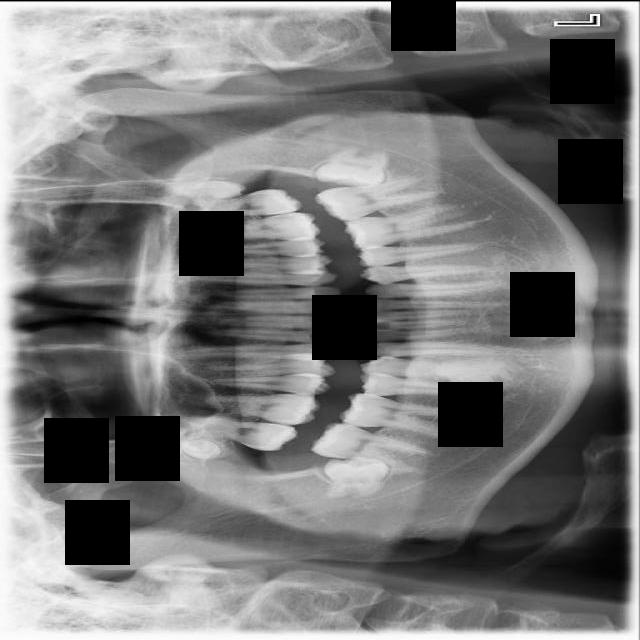3M ESPE Implant: (176, 427, 225, 468)
73: (562, 38, 568, 40)
BioHorizons Implant: (174, 185, 301, 225)
BioLife Implant: (165, 179, 246, 198)
Biomet 3i Implant: (314, 139, 392, 193)
Blue Sky Bio Implant: (312, 173, 440, 225)
Caries: (176, 409, 300, 454)
Implant: (309, 418, 431, 472)
Keystone Dental Implant: (324, 456, 389, 495)
